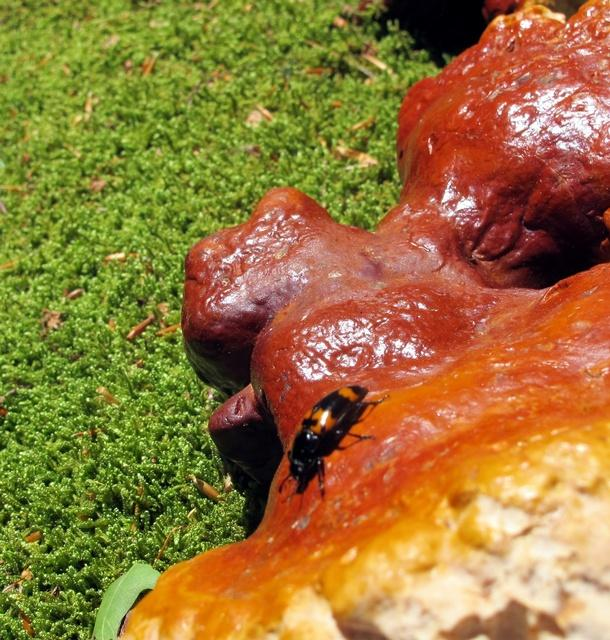Non-edible Mushroom: (116, 1, 608, 638)
